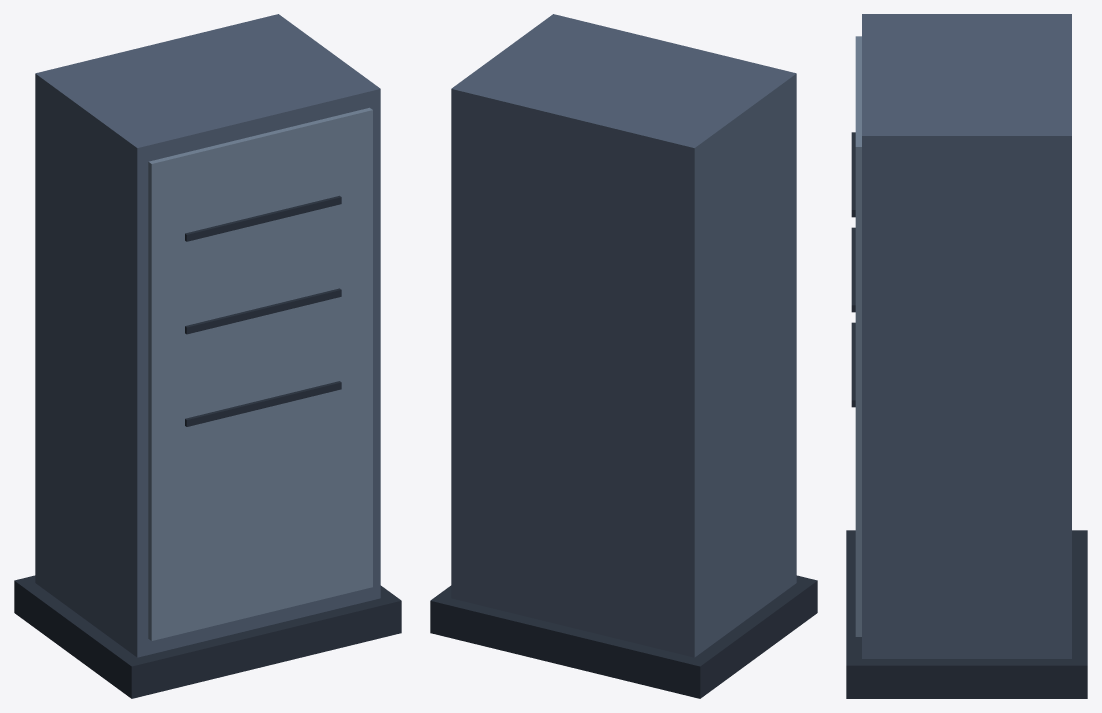
The model's file is power-cabinet.glb.
3 renders of one model, left to right at view 1: azimuth 30°, elevation 25°; view 2: azimuth 150°, elevation 25°; view 3: azimuth 270°, elevation 25°, orthographic. The views are drawn at different scales.
Size of the model in its own units: 41.48 by 81.26 by 31.28.
